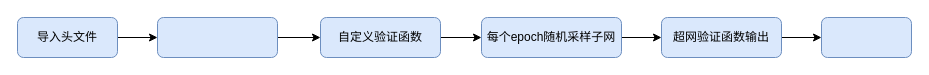
This 929x75 diagram has some shape labels left out. Here are the shapes that lost their labels. From the top down, the centre of each, then its label:
pixel 217 37: 超网构建、设置
pixel 866 37: 超网输出保存
